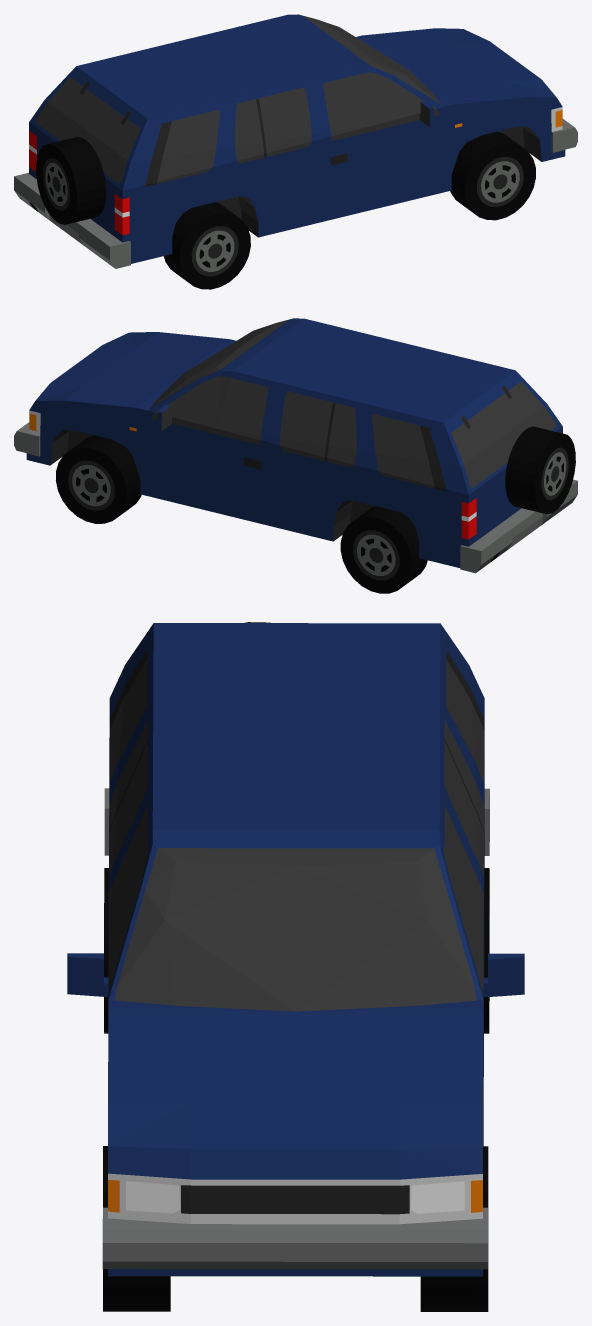
Rendered from car_2.obj.
3 renders of one model, top to bottom at view 1: azimuth 30°, elevation 25°; view 2: azimuth 150°, elevation 25°; view 3: azimuth 270°, elevation 25°, orthographic. The views are drawn at different scales.
Parts seen in each view (by area): view 1: Mesh1 Component_1_1 Model, Mesh5 Component_1_1 Model, Mesh2 Component_1_1 Model; view 2: Mesh1 Component_1_1 Model, Mesh4 Component_1_1 Model, Mesh3 Component_1_1 Model; view 3: Mesh1 Component_1_1 Model, Mesh4 Component_1_1 Model, Mesh5 Component_1_1 Model.
Part boxes in pixels (x1,y1,x2,y2): Mesh1 Component_1_1 Model: [14, 14, 577, 268]; Mesh5 Component_1_1 Model: [450, 131, 535, 220]; Mesh2 Component_1_1 Model: [164, 202, 250, 289]; Mesh1 Component_1_1 Model: [14, 318, 577, 573]; Mesh4 Component_1_1 Model: [56, 435, 141, 523]; Mesh3 Component_1_1 Model: [340, 506, 427, 593]; Mesh1 Component_1_1 Model: [67, 622, 524, 1276]; Mesh4 Component_1_1 Model: [420, 1146, 488, 1311]; Mesh5 Component_1_1 Model: [103, 1146, 170, 1311].
Size of the model in its own units: 2.16 by 0.7438 by 0.885.
